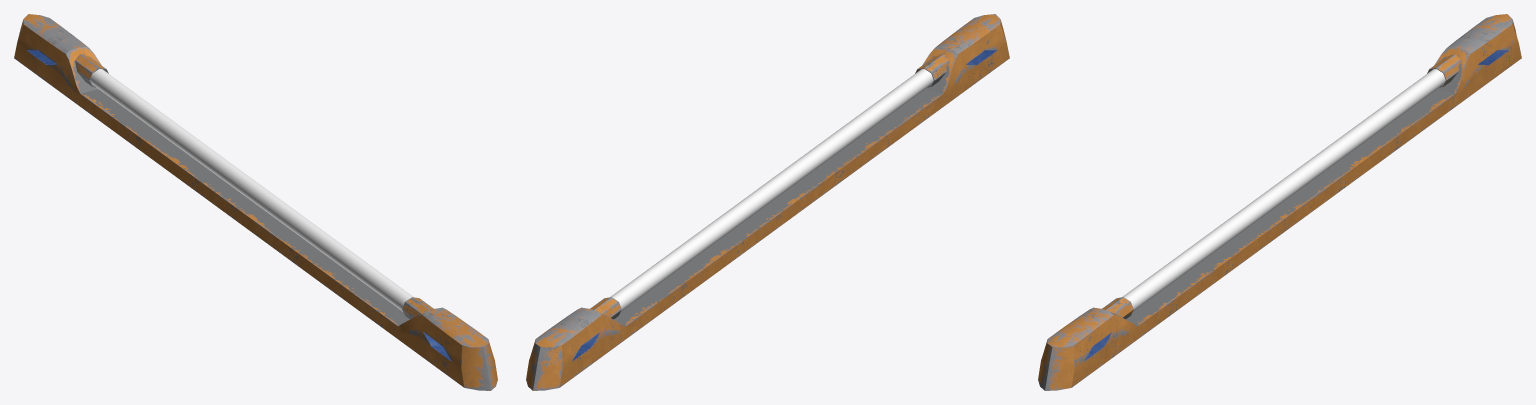
File: Lumiere.fbx
The picture shows the model from 3 angles, left to right: view 1: azimuth 30°, elevation 25°; view 2: azimuth 150°, elevation 25°; view 3: azimuth 330°, elevation 25°; orthographic projection.
Visible parts, largest first — view 1: pCube5, pCylinder1; view 2: pCube5, pCylinder1; view 3: pCube5, pCylinder1.
Part boxes in pixels (x1,y1,x2,y2): pCube5: [14, 14, 497, 390]; pCylinder1: [90, 69, 413, 311]; pCube5: [526, 14, 1009, 390]; pCylinder1: [610, 69, 933, 311]; pCube5: [1038, 14, 1521, 390]; pCylinder1: [1122, 69, 1445, 311].
Size of the model in its own units: 1 by 1.16 by 24.25.
Materials: 2 (2 with a texture image).
